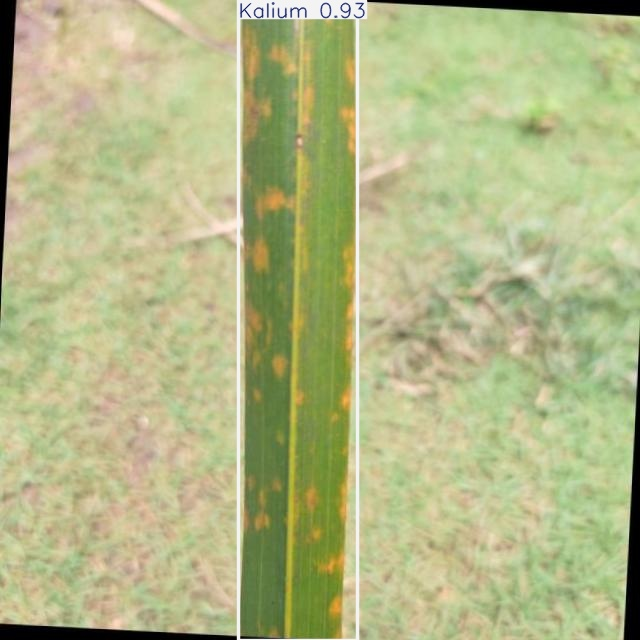Kalium: (239, 1, 358, 640)
